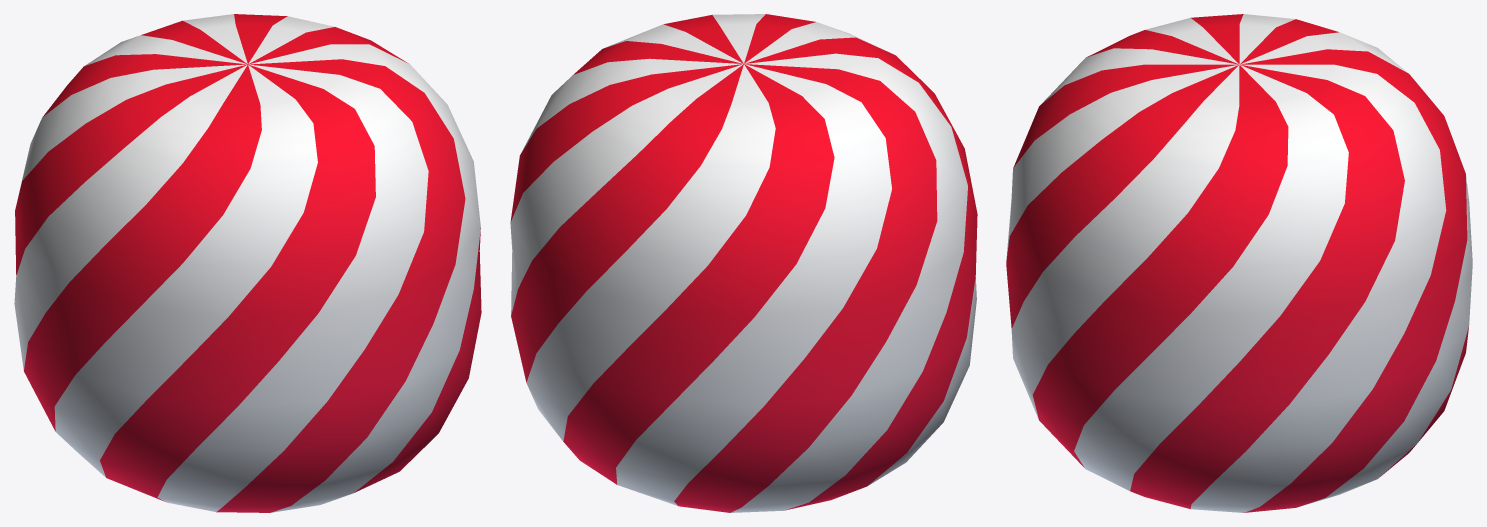
The model's file is lollipop_001.glb.
3 renders of one model, left to right at view 1: azimuth 30°, elevation 25°; view 2: azimuth 150°, elevation 25°; view 3: azimuth 270°, elevation 25°, orthographic.
Visible parts, largest first — view 1: lollipop_001; view 2: lollipop_001; view 3: lollipop_001.
Boxes of the visible parts, x1,y1,x2,y2 form: lollipop_001: [14, 14, 481, 512]; lollipop_001: [510, 14, 977, 512]; lollipop_001: [1006, 14, 1472, 512].
Bounding box in the file's own units: 1.76 × 1.66 × 1.76.
Materials: 1 (1 with a texture image).
